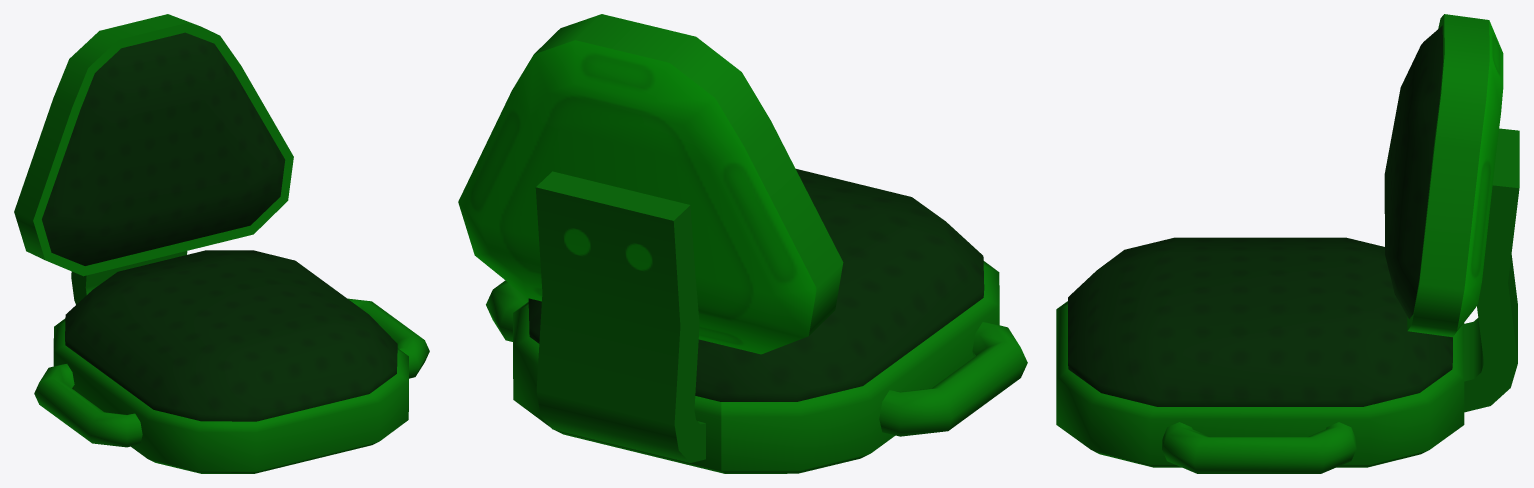
Rendered from obj_office_officechair.fbx.
The picture shows the model from 3 angles, left to right: view 1: azimuth 30°, elevation 25°; view 2: azimuth 150°, elevation 25°; view 3: azimuth 270°, elevation 25°; orthographic projection. The views are drawn at different scales.
Visible parts, largest first — view 1: polySurface84; view 2: polySurface84; view 3: polySurface84.
Part boxes in pixels (left/top/right/bottom): polySurface84: left=14, top=14, right=429, bottom=473; polySurface84: left=458, top=14, right=1027, bottom=473; polySurface84: left=1056, top=14, right=1519, bottom=473.
Bounding box in the file's own units: 2.99 × 2.61 × 3.01.
